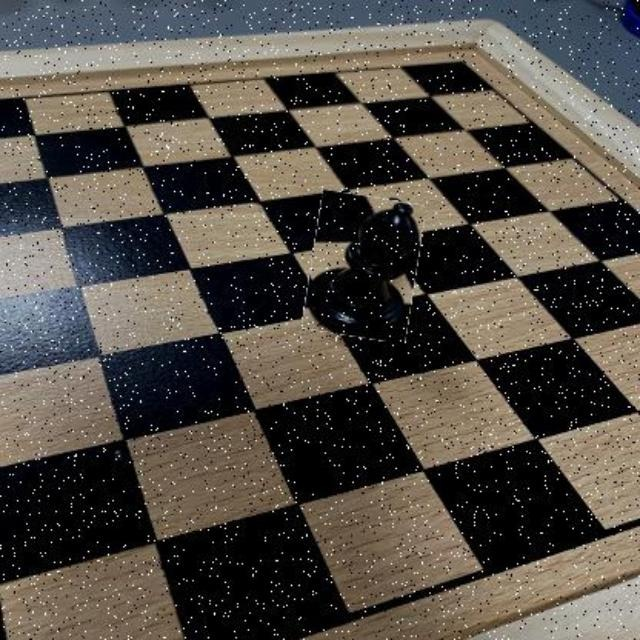black-bishop: (306, 193, 421, 340)
